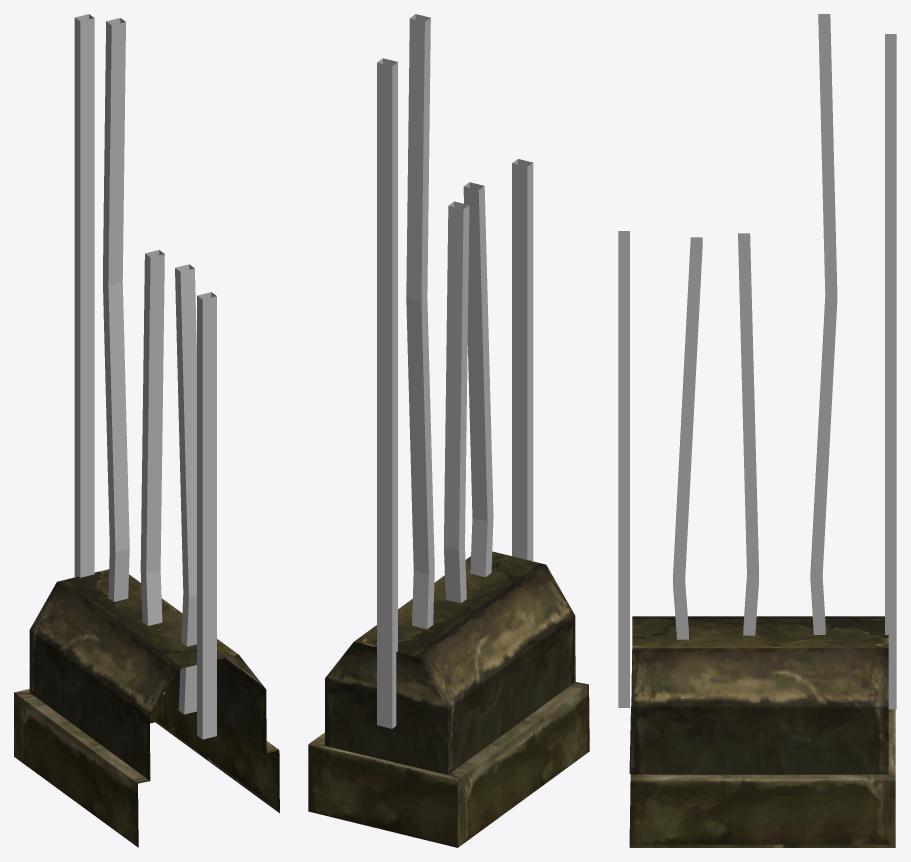
The model's file is Stage001_DOOR_06.FBX.
3 views of the same model, side by side, from view 1: azimuth 30°, elevation 25°; view 2: azimuth 150°, elevation 25°; view 3: azimuth 270°, elevation 25° (orthographic). The views are drawn at different scales.
Visible parts, largest first — view 1: Stage001_DOOR_06; view 2: Stage001_DOOR_06; view 3: Stage001_DOOR_06.
Part boxes in pixels (box(x1,y1,x2,y2)): Stage001_DOOR_06: box(14, 14, 279, 847); Stage001_DOOR_06: box(308, 14, 589, 847); Stage001_DOOR_06: box(618, 14, 896, 847).
Size of the model in its own units: 112 by 562 by 179.
